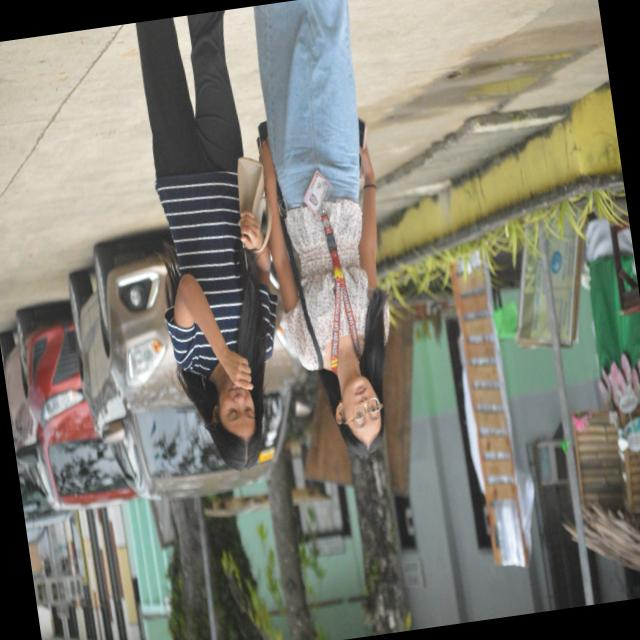person: (136, 11, 276, 469), (253, 0, 388, 454)
